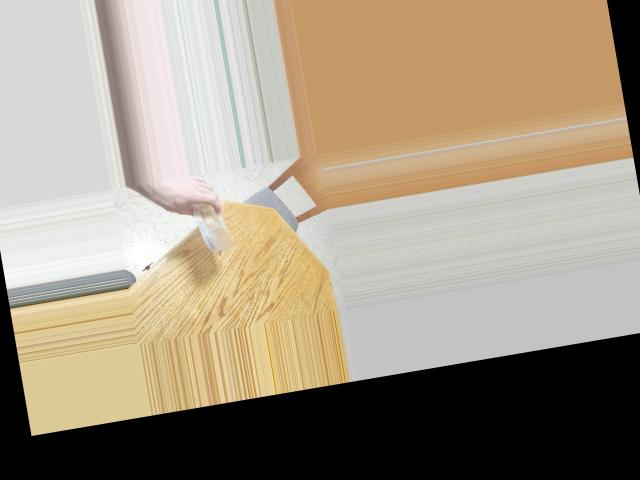cheese: (182, 199, 233, 252)
